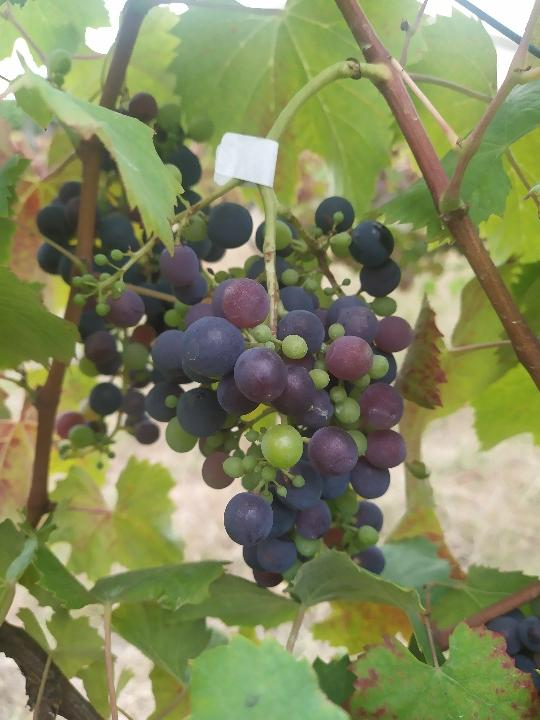grape: (144, 187, 419, 590)
